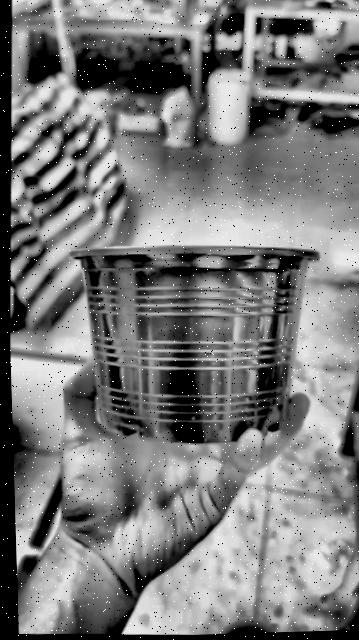pot: (70, 246, 317, 444)
